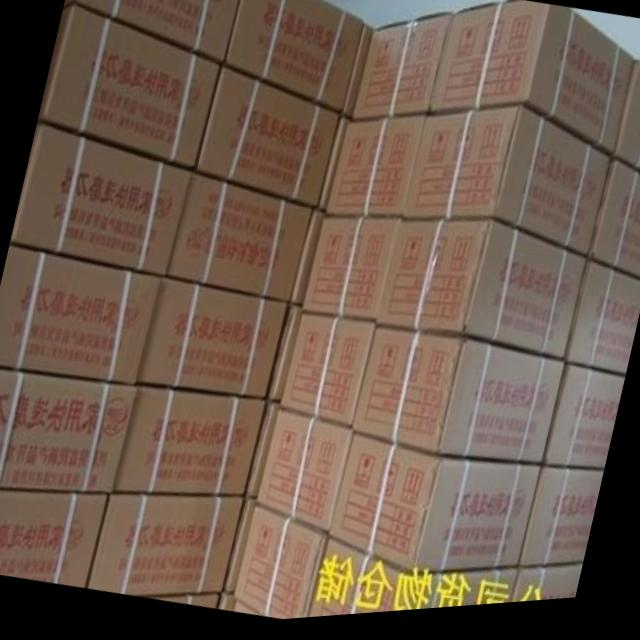box: (427, 6, 635, 165), (401, 113, 613, 267), (328, 434, 542, 581), (374, 225, 587, 372), (38, 4, 222, 171), (351, 332, 566, 472), (11, 122, 192, 278), (0, 243, 163, 385), (192, 66, 343, 213), (136, 278, 289, 404), (166, 176, 313, 306), (0, 366, 138, 494), (113, 385, 266, 500), (307, 540, 518, 622), (86, 494, 244, 598), (224, 0, 365, 116), (254, 413, 351, 540), (64, 0, 241, 66), (278, 315, 374, 434), (232, 506, 328, 623), (300, 220, 401, 330), (350, 18, 452, 125), (323, 121, 427, 225), (0, 489, 108, 588), (542, 372, 625, 480), (518, 472, 602, 575), (566, 269, 640, 384), (587, 168, 640, 289), (244, 404, 279, 505), (337, 28, 374, 123), (266, 306, 301, 406), (612, 68, 640, 183), (221, 500, 254, 595), (290, 213, 322, 310), (317, 124, 349, 218), (510, 570, 583, 610), (135, 593, 220, 612), (232, 606, 259, 619), (217, 593, 232, 614)
